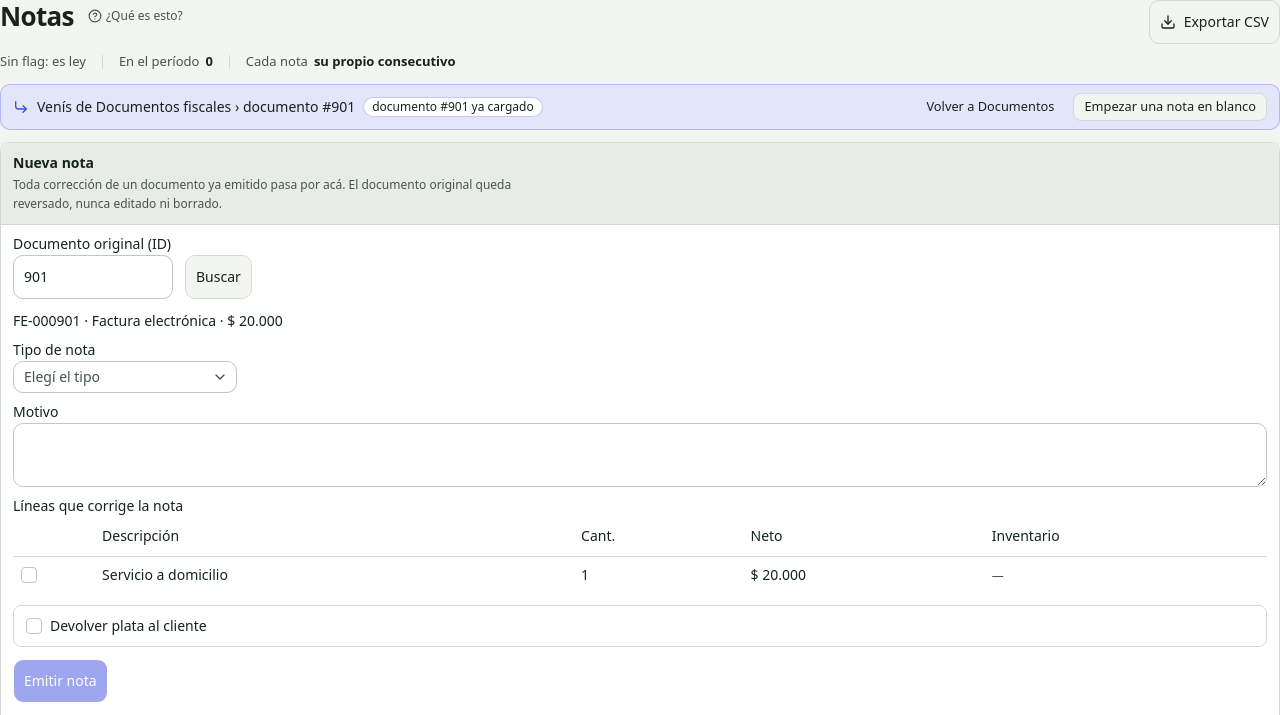
NotesPage › B-1 (ronda 2): en nota débito no se ofrece la elección y el payload manda returns_to_stock false en todas las líneas
Expected: the text "FE-000901 · Factura electrónica · $ 20.000" is shown, [13,310,283,330]
Click the dropdown named "Tipo de nota" at (125, 376), box [13,360,237,392]
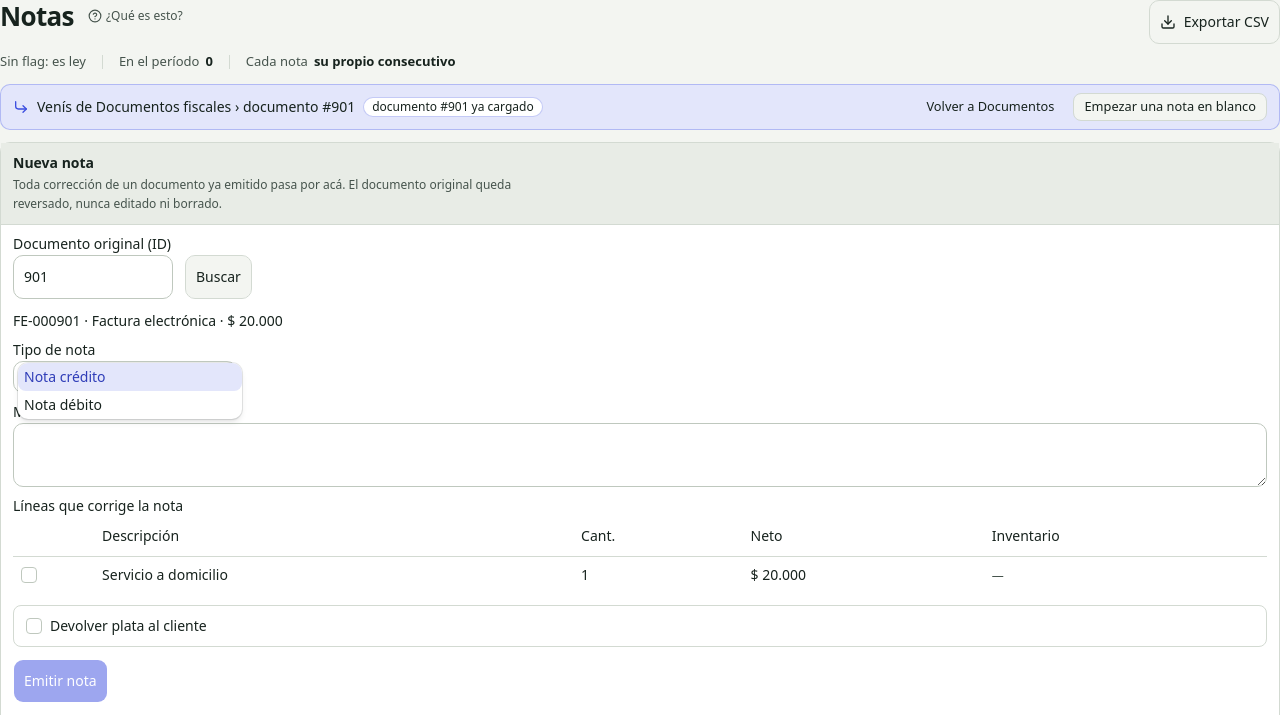
Click the option "Nota débito" at (63, 404), box [24,394,102,414]
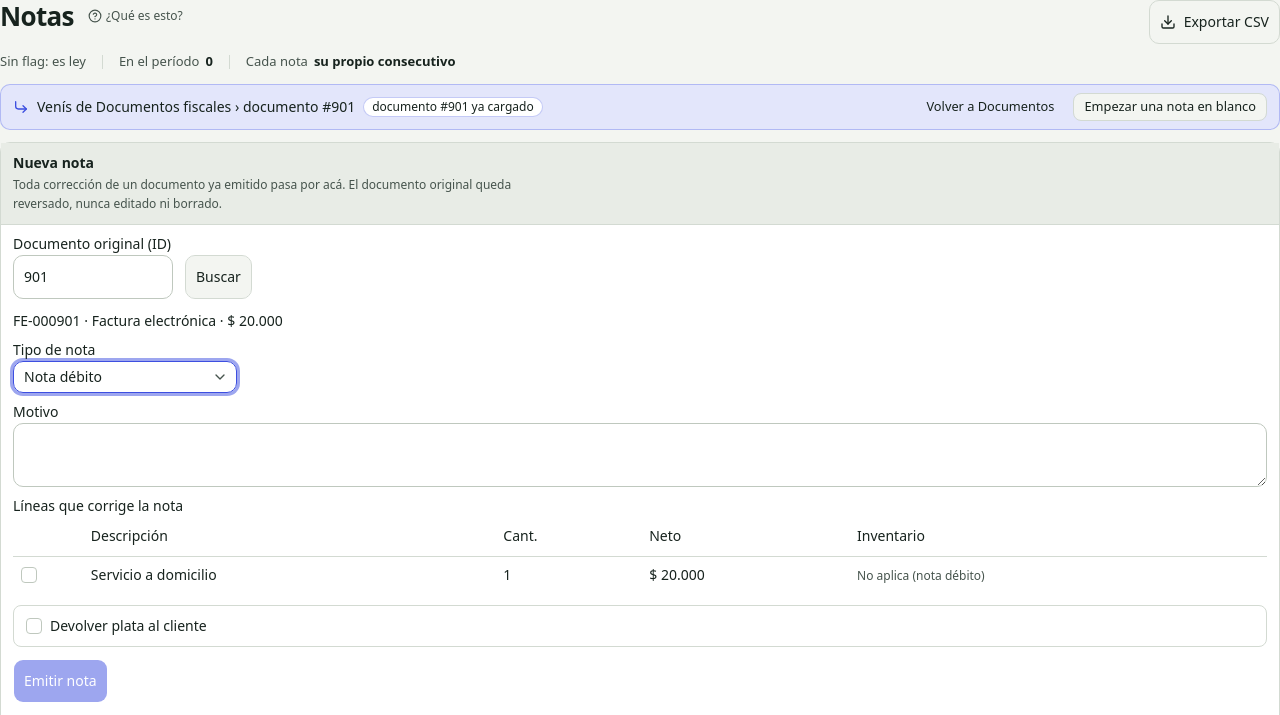
Type "Cobro adicional del domicilio" into the text box labelled "Motivo" at (640, 454), box [13,422,1267,486]
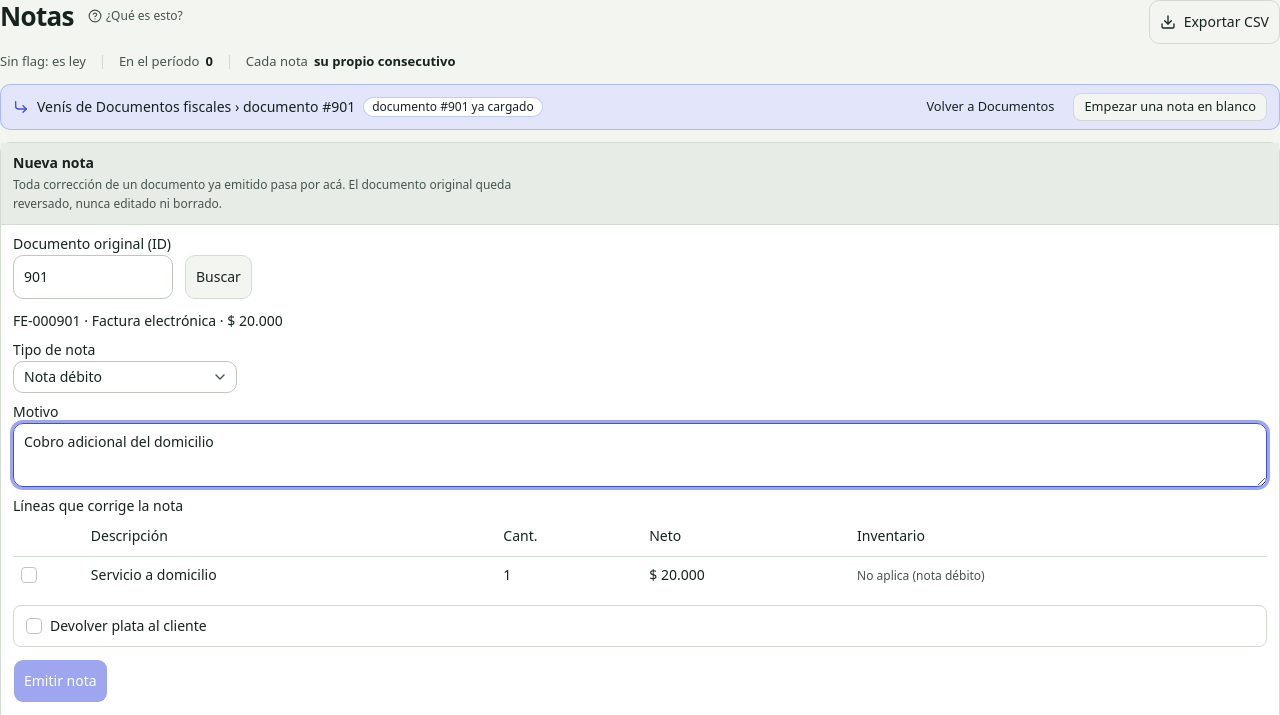
Click the checkbox named "Incluir Servicio a domicilio en la nota" at (29, 575), box [21,567,37,583]
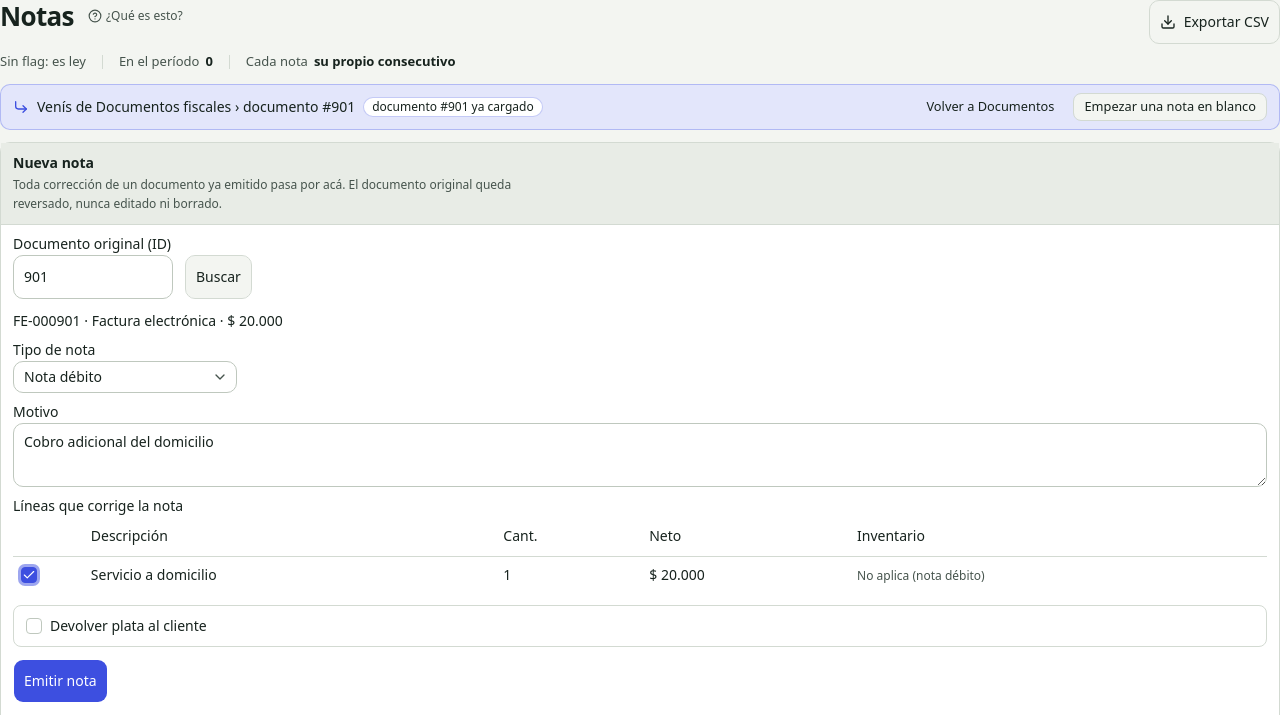
Expected: the text "No aplica (nota débito)" is shown, [857,567,985,584]
Expected: the button "Emitir nota" is enabled
Click the button "Emitir nota" at (60, 681), box [13,659,108,703]
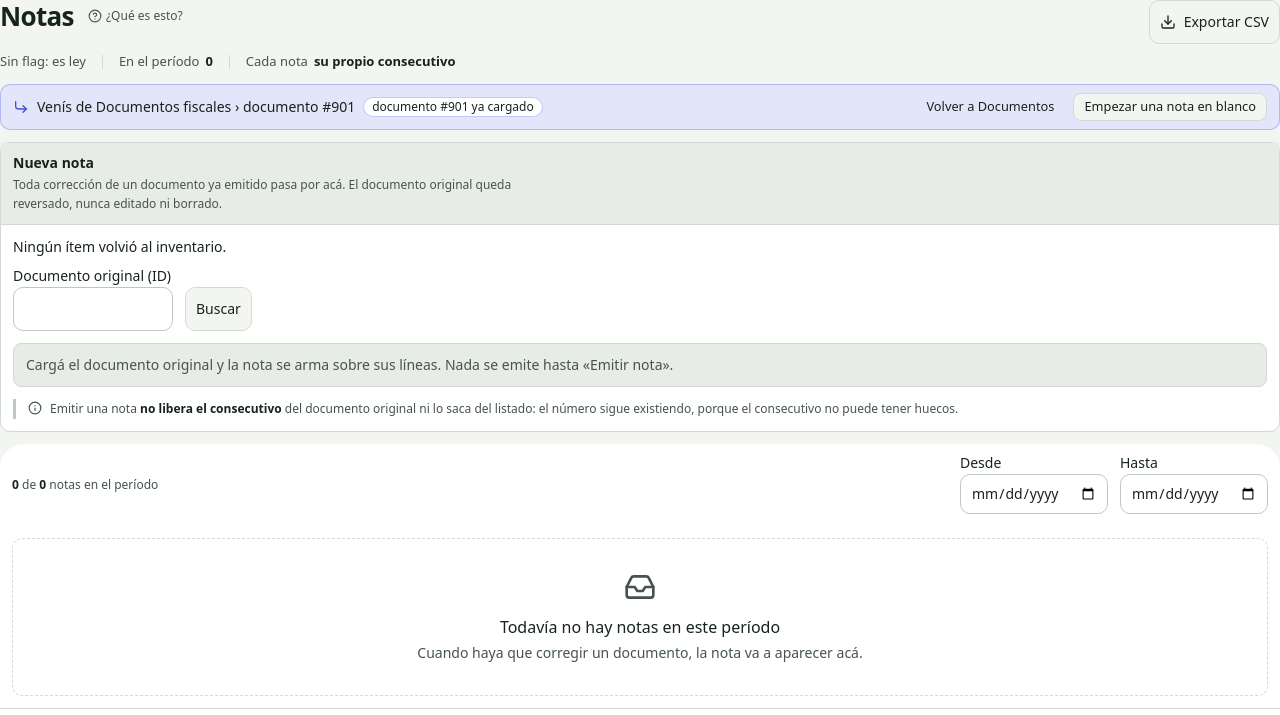
Expected: the text "Ningún ítem volvió al inventario." is shown, [13,236,226,256]
